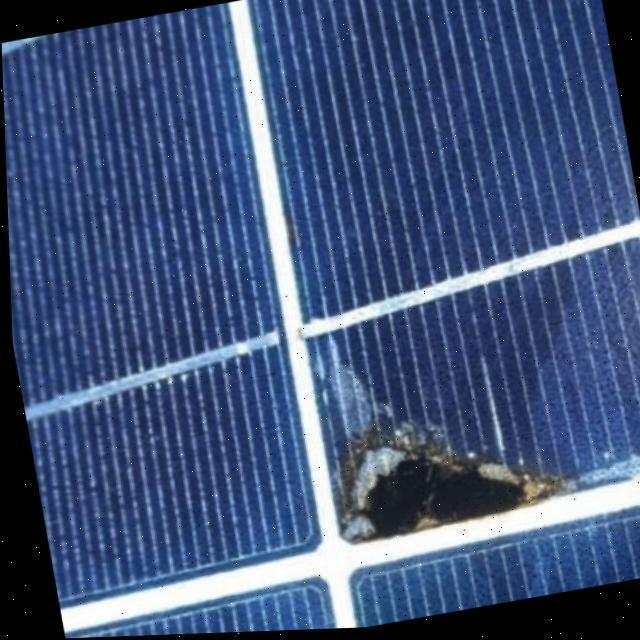Structural Damage: (319, 403, 558, 547)
